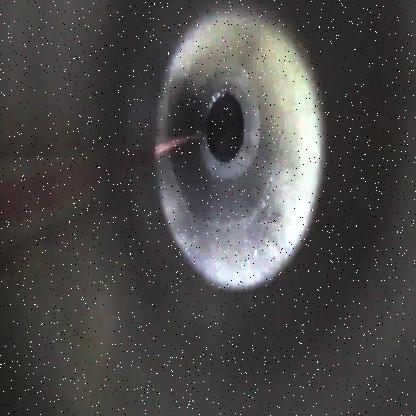NoCrack: (154, 2, 324, 291)
